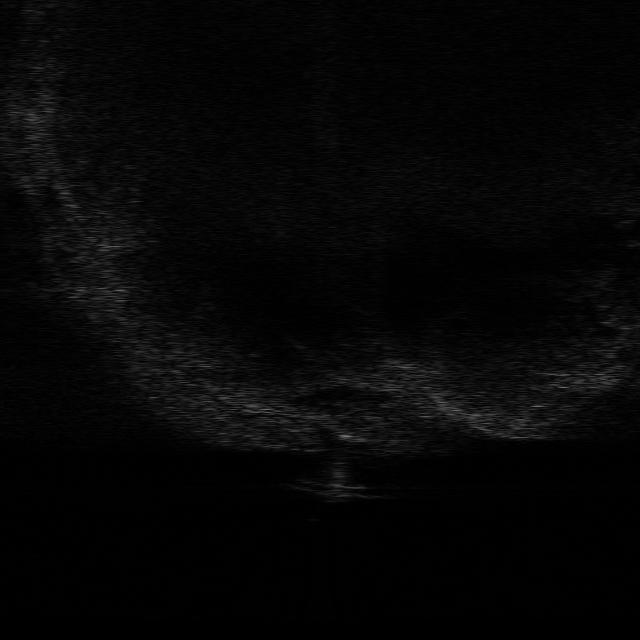plane: (284, 476, 388, 502)
